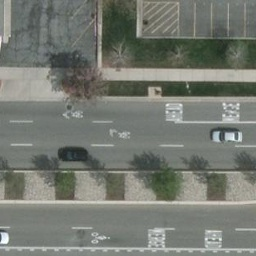car: (56, 142, 88, 165), (211, 126, 242, 142)
